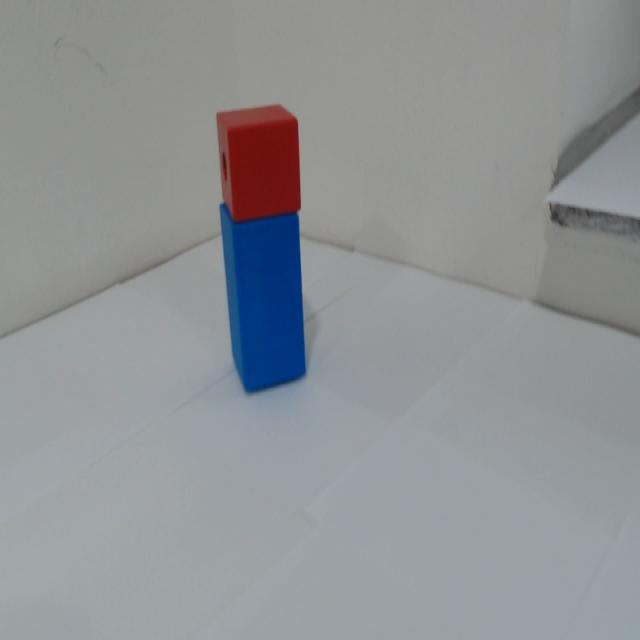cube: (206, 92, 326, 226)
